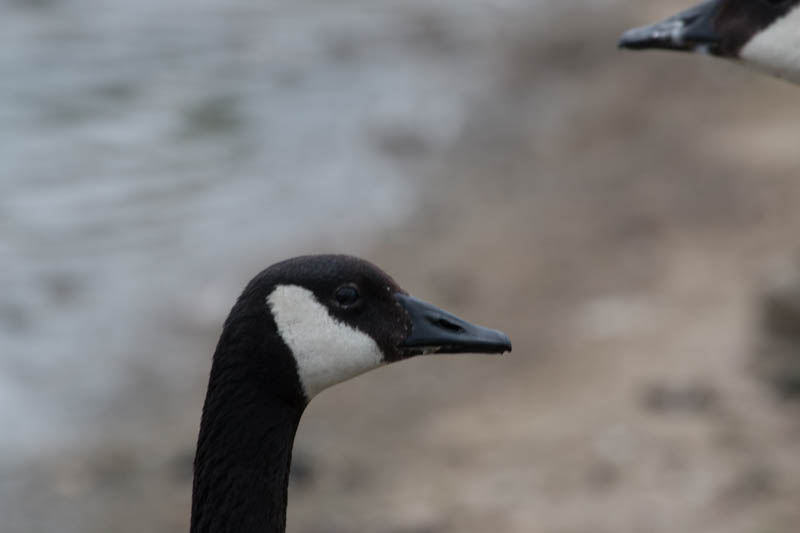goose-head: (204, 251, 513, 402)
